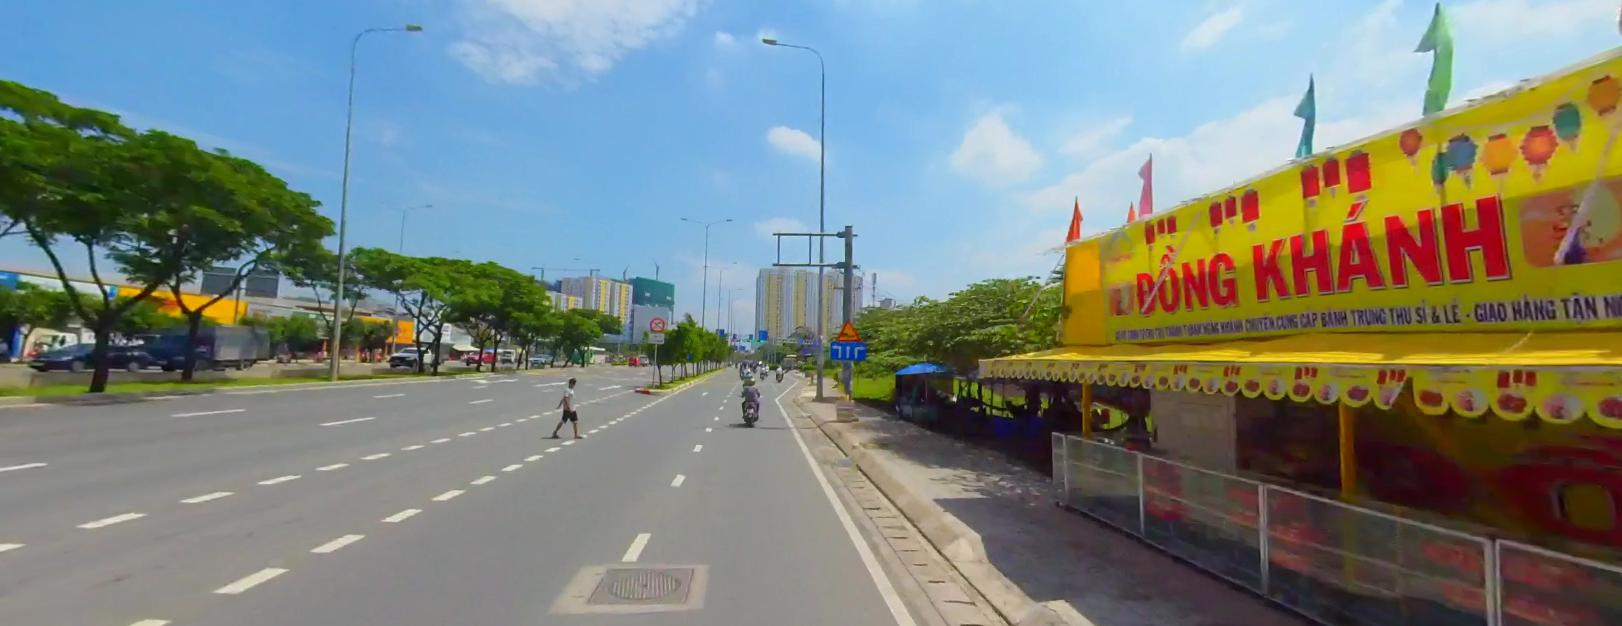Cam con lai: (650, 316, 663, 330)
Nguy hiem: (836, 318, 859, 340)
